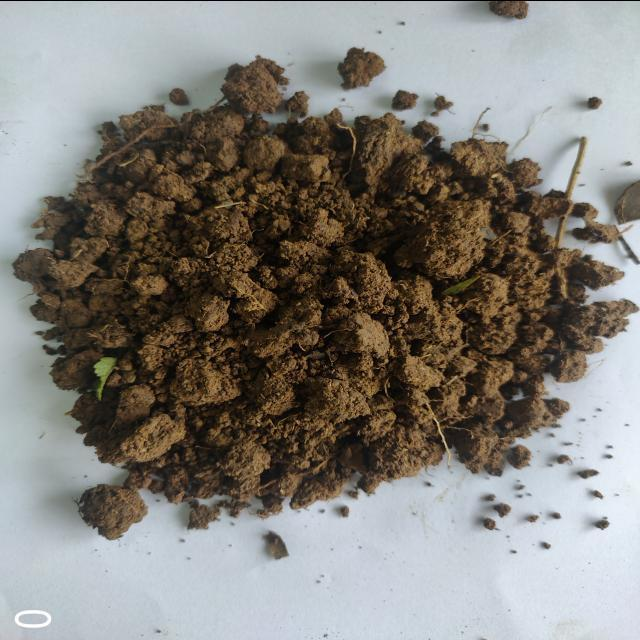soil: (109, 160, 488, 436)
